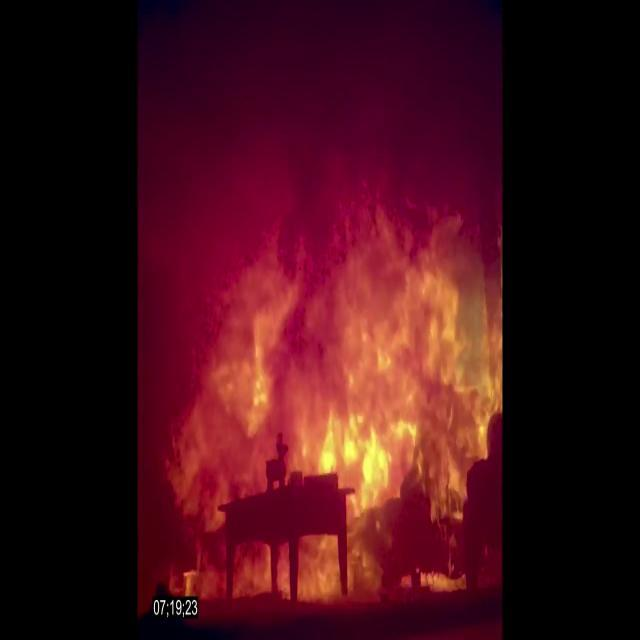Fire: (184, 178, 502, 520)
